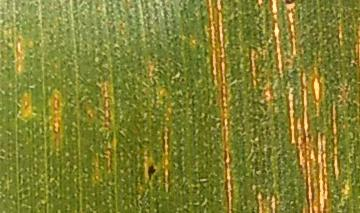tarspot: (145, 160, 159, 182)
